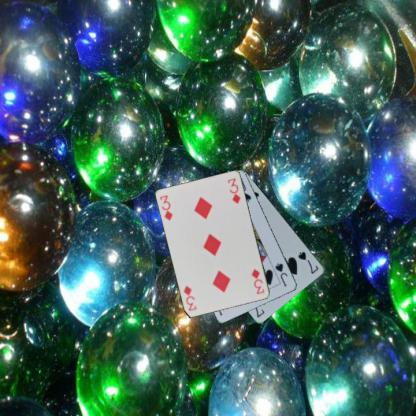3d: (249, 266, 266, 296), (158, 192, 174, 222)
7s: (296, 249, 320, 275)
Js: (273, 260, 289, 288)
